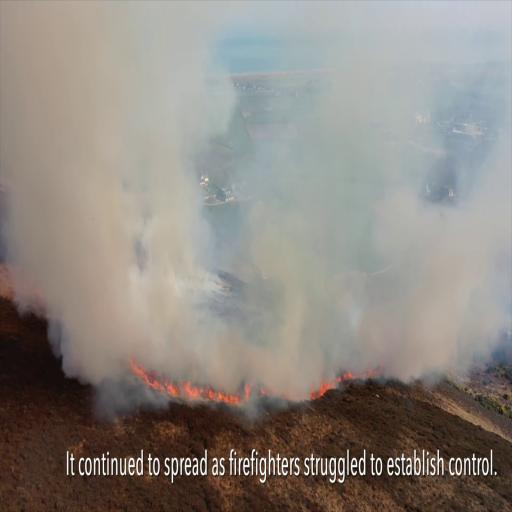fire: (139, 364, 258, 405)
smoke: (0, 12, 179, 332), (385, 153, 512, 349)
